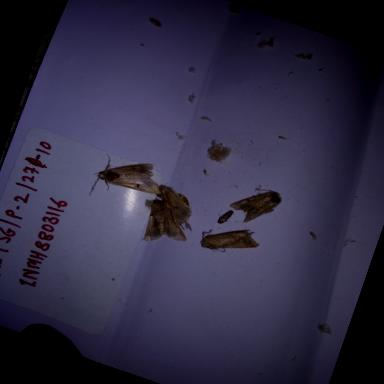abw: (86, 146, 170, 219), (224, 172, 294, 236), (196, 214, 265, 267), (136, 196, 197, 255), (148, 182, 199, 229)
